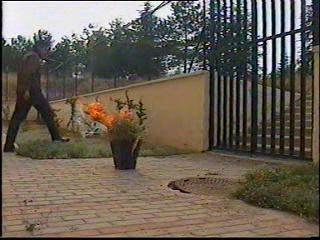fire: (81, 97, 133, 136)
